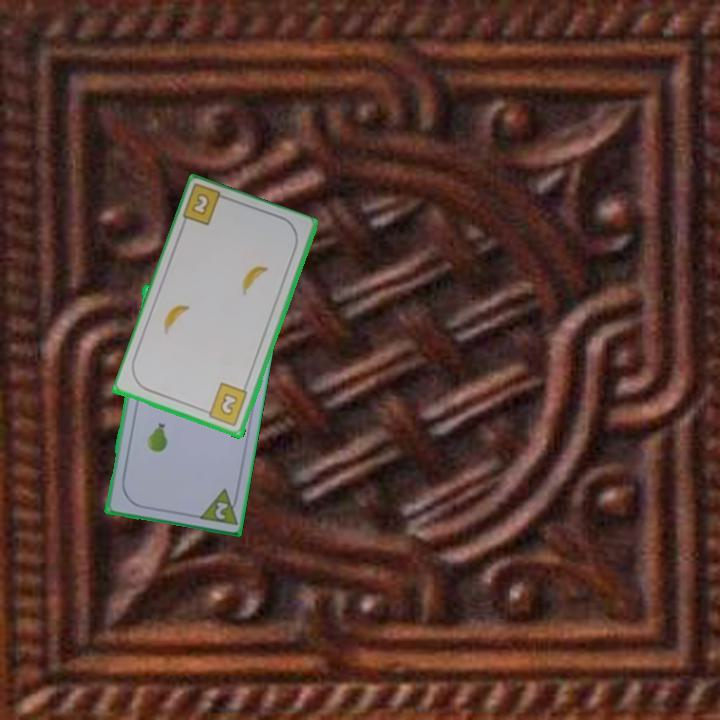2b: (200, 380, 251, 429), (179, 183, 232, 229)
2p: (194, 484, 242, 528)
